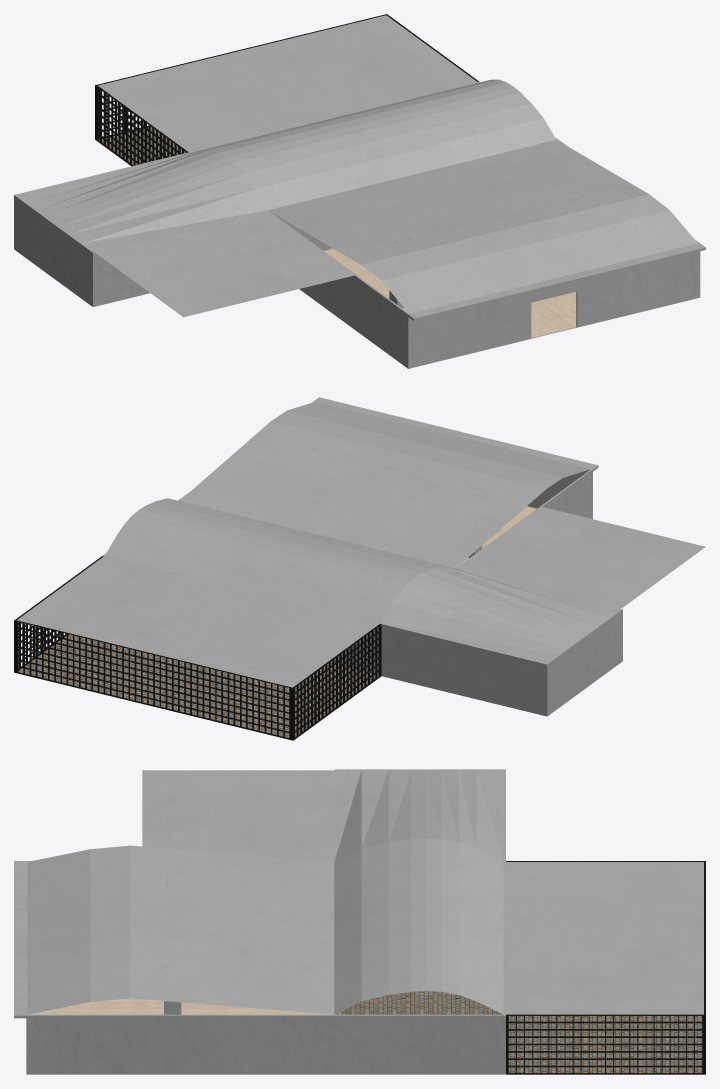
Rendered from Paredes.fbx.
The picture shows the model from 3 angles, top to bottom: view 1: azimuth 30°, elevation 25°; view 2: azimuth 150°, elevation 25°; view 3: azimuth 270°, elevation 25°; orthographic projection. The views are drawn at different scales.
Parts seen in each view (by area): view 1: Techo, Pared Interna 1, Techo Invernadero, PisoCafe; view 2: Techo, Pared Interna 1, Techo Invernadero, PisoCafe; view 3: Techo, Pared Interna 1, Techo Invernadero, PisoCafe.
Boxes of the visible parts, bbox=[...] form: Techo: bbox=[17, 79, 697, 317]; Pared Interna 1: bbox=[14, 14, 705, 368]; Techo Invernadero: bbox=[98, 15, 476, 152]; PisoCafe: bbox=[98, 127, 576, 337]; Techo: bbox=[105, 402, 705, 663]; Pared Interna 1: bbox=[14, 397, 622, 740]; Techo Invernadero: bbox=[17, 556, 379, 687]; PisoCafe: bbox=[18, 506, 536, 737]; Techo: bbox=[27, 770, 503, 1014]; Pared Interna 1: bbox=[14, 769, 705, 1074]; Techo Invernadero: bbox=[506, 862, 703, 1014]; PisoCafe: bbox=[29, 991, 702, 1072].
Bounding box in the file's own units: 4030 × 630 × 4786.
Materials: 5 (5 with a texture image).
